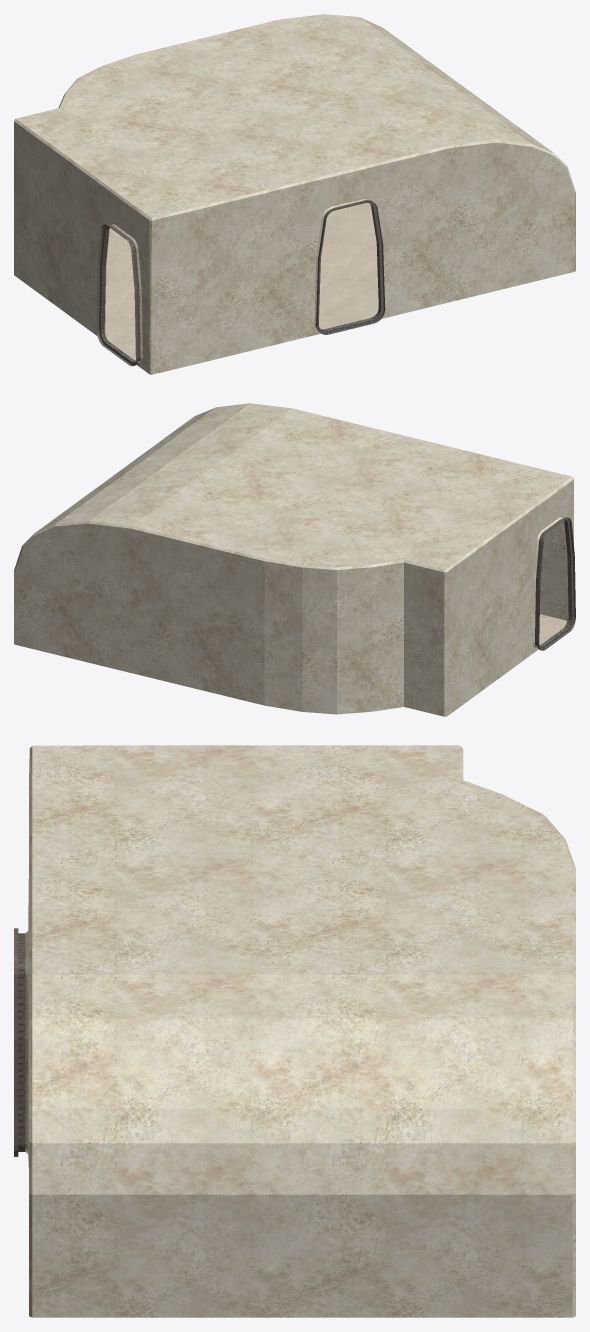
Rendered from ply_tato_house_sm_s01_fp1_r1_foyer_mesh_r1.fbx.
The picture shows the model from 3 angles, top to bottom: view 1: azimuth 30°, elevation 25°; view 2: azimuth 150°, elevation 25°; view 3: azimuth 270°, elevation 25°; orthographic projection. The views are drawn at different scales.
Visible parts, largest first — view 1: mesh_node; view 2: mesh_node; view 3: mesh_node.
Part boxes in pixels (x1,y1,x2,y2): mesh_node: (14,14,575,374); mesh_node: (14,403,575,716); mesh_node: (14,745,575,1317).
Bounding box in the file's own units: 11.65 × 4 × 8.29.
